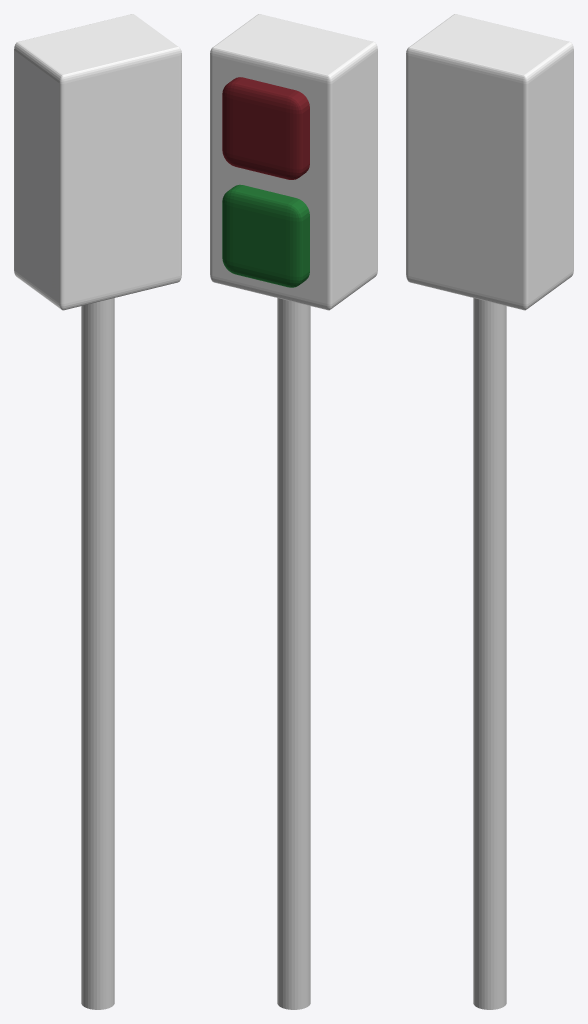
File: traffic_light.fbx
The picture shows the model from 3 angles, left to right: view 1: azimuth 30°, elevation 25°; view 2: azimuth 150°, elevation 25°; view 3: azimuth 330°, elevation 25°; orthographic projection.
Visible parts, largest first — view 1: light_body, light_pole; view 2: light_body, light_pole, signal_green, signal_red; view 3: light_body, light_pole.
Part boxes in pixels (x1,y1,x2,y2): light_body: (14,14,181,310); light_pole: (81,298,114,1009); light_body: (210,14,377,310); light_pole: (277,298,310,1009); signal_green: (222,184,309,287); signal_red: (222,77,309,179); light_body: (406,14,573,310); light_pole: (473,298,506,1009).
Size of the model in its own units: 760 by 5700 by 630.
